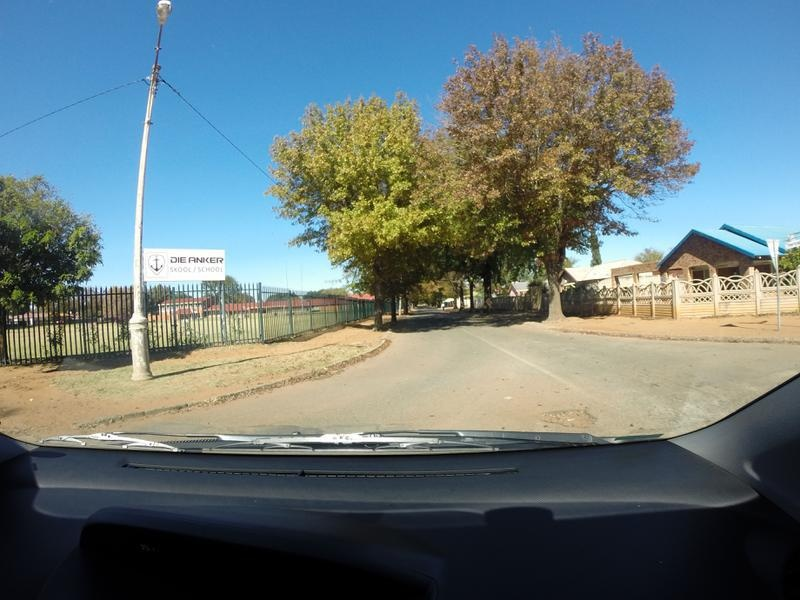pothole: (533, 389, 615, 428)
